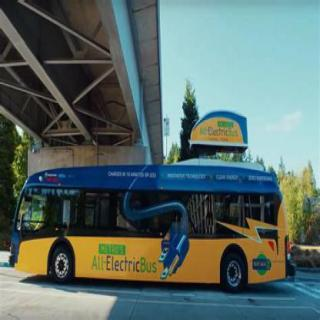Normal_vehicle: (7, 143, 299, 302)
